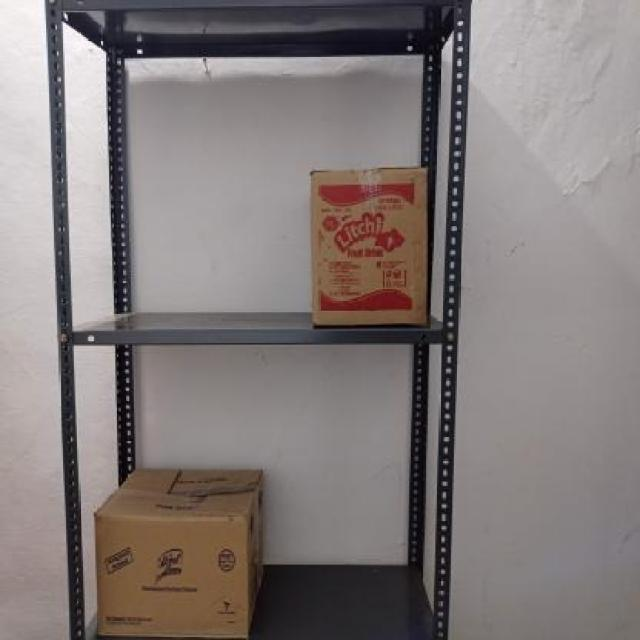box: (308, 165, 430, 324), (93, 516, 244, 638)
